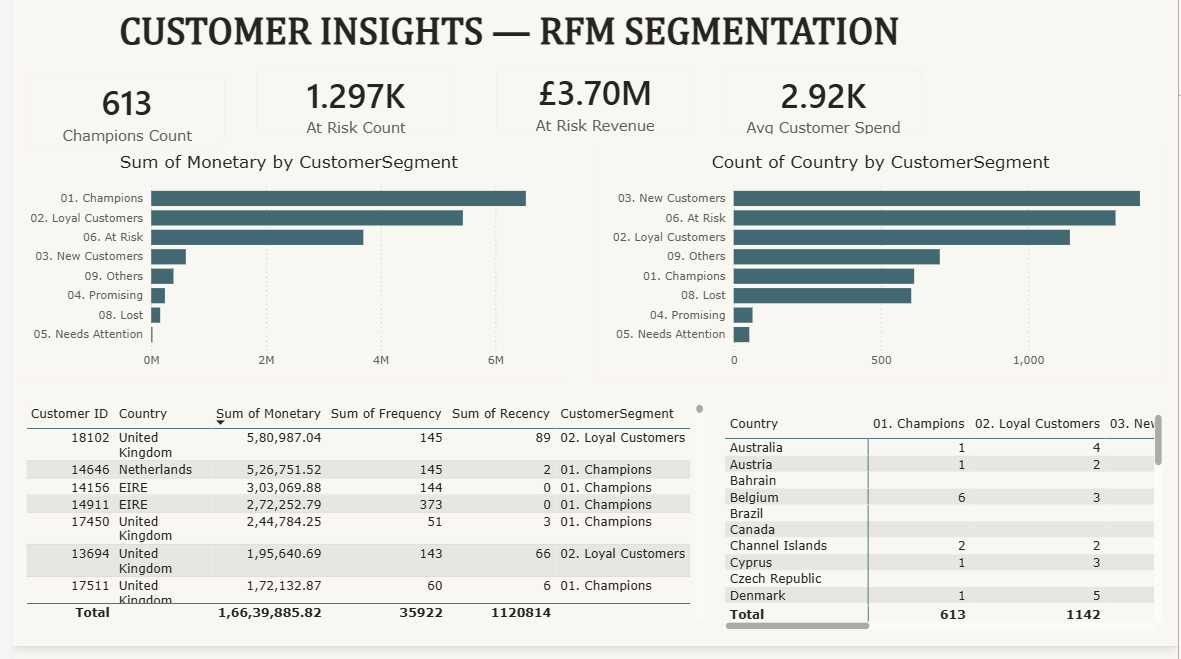

What the dashboard file says about the page in this screenshot:
{"tool":"powerbi","page":{"name":"Customer Insights ","canvas":[1280,720],"ordinal":1},"visuals":[{"type":"textbox","box":[9.6,17.8,1073.1,68.6],"z":0},{"type":"cardVisual","fields":{"Data":["vw_RFM_Segments.Champions Count"]},"box":[0,75.5,251.1,111.1],"z":1000},{"type":"cardVisual","fields":{"Data":["vw_RFM_Segments.At Risk Count"]},"box":[251.1,70,251.1,105.7],"z":2000},{"type":"cardVisual","fields":{"Data":["vw_RFM_Segments.At Risk Revenue"]},"box":[514.6,64.5,249.7,111.1],"z":3000},{"type":"cardVisual","fields":{"Data":["vw_RFM_Segments.Avg Customer Spend"]},"box":[764.3,70,251.1,105.7],"z":4000},{"type":"clusteredBarChart","fields":{"Category":["vw_RFM_Segments.CustomerSegment"],"Y":["Sum(vw_RFM_Segments.Monetary)"]},"box":[0,175.6,607.9,247],"z":5000},{"type":"tableEx","fields":{"Values":["vw_RFM_Segments.Customer ID","vw_RFM_Segments.Country","Sum(vw_RFM_Segments.Monetary)","Sum(vw_RFM_Segments.Frequency)","Sum(vw_RFM_Segments.Recency)","vw_RFM_Segments.CustomerSegment"]},"box":[9.6,448.7,754.7,247],"z":6000},{"type":"pivotTable","fields":{"Values":["Count(vw_RFM_Segments.Customer ID)"],"Rows":["vw_RFM_Segments.Country"],"Columns":["vw_RFM_Segments.CustomerSegment"]},"box":[778,459.7,489.9,247],"z":7000},{"type":"clusteredBarChart","fields":{"Category":["vw_RFM_Segments.CustomerSegment"],"Y":["CountNonNull(vw_RFM_Segments.Country)"]},"box":[639.5,175.6,628.5,247],"z":8000}]}

Visuals, with their boxes in screenshot pixels (x1, y1, x2, y2), scaled from the page's 1280x720 canvas onto the 1181x659 screenshot:
textbox: locate(9, 16, 999, 79)
cardVisual - vw_RFM_Segments.Champions Count: locate(0, 69, 232, 171)
cardVisual - vw_RFM_Segments.At Risk Count: locate(232, 64, 463, 161)
cardVisual - vw_RFM_Segments.At Risk Revenue: locate(475, 59, 705, 161)
cardVisual - vw_RFM_Segments.Avg Customer Spend: locate(705, 64, 937, 161)
clusteredBarChart - vw_RFM_Segments.CustomerSegment x Sum(vw_RFM_Segments.Monetary): locate(0, 161, 561, 387)
tableEx - vw_RFM_Segments.Customer ID x vw_RFM_Segments.Country: locate(9, 411, 705, 637)
pivotTable - Count(vw_RFM_Segments.Customer ID) x vw_RFM_Segments.Country: locate(718, 421, 1170, 647)
clusteredBarChart - vw_RFM_Segments.CustomerSegment x CountNonNull(vw_RFM_Segments.Country): locate(590, 161, 1170, 387)
